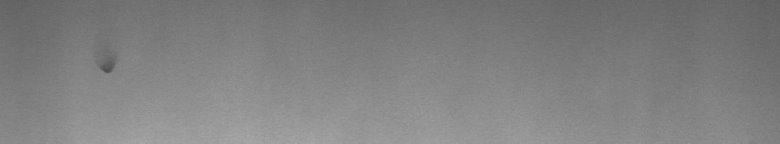fi: (100, 61, 116, 80)
